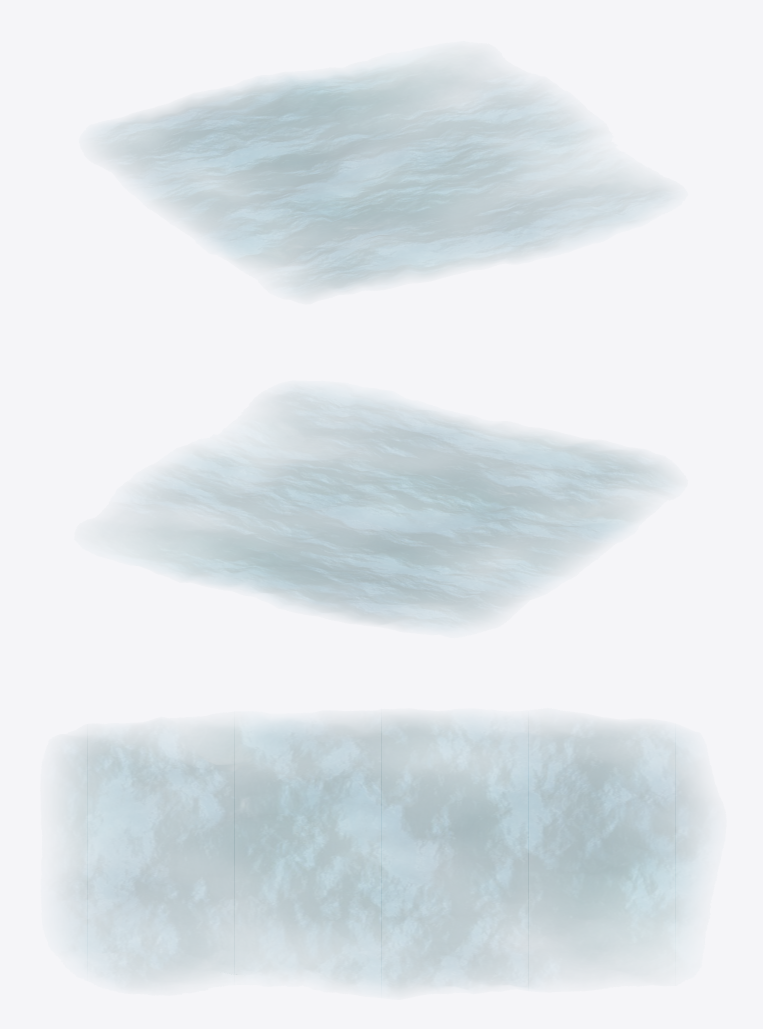
Rendered from water_animation.glb.
The picture shows the model from 3 angles, top to bottom: view 1: azimuth 30°, elevation 25°; view 2: azimuth 150°, elevation 25°; view 3: azimuth 270°, elevation 25°; orthographic projection. The views are drawn at different scales.
Parts seen in each view (by area): view 1: Water Export; view 2: Water Export; view 3: Water Export.
Boxes of the visible parts, <box> form: Water Export: <box>107,67,657,289</box>; Water Export: <box>136,394,660,624</box>; Water Export: <box>69,719,698,986</box>.
Size of the model in its own units: 100 by 3.16 by 100.
1 material, 1 textured.
